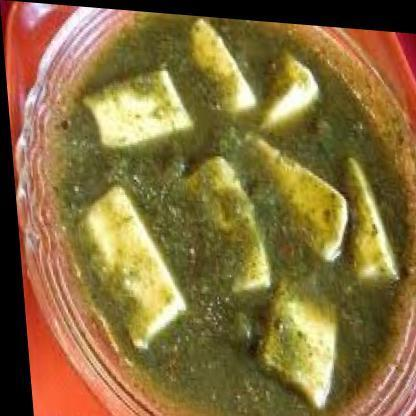palak_paneer: (41, 3, 416, 416)
